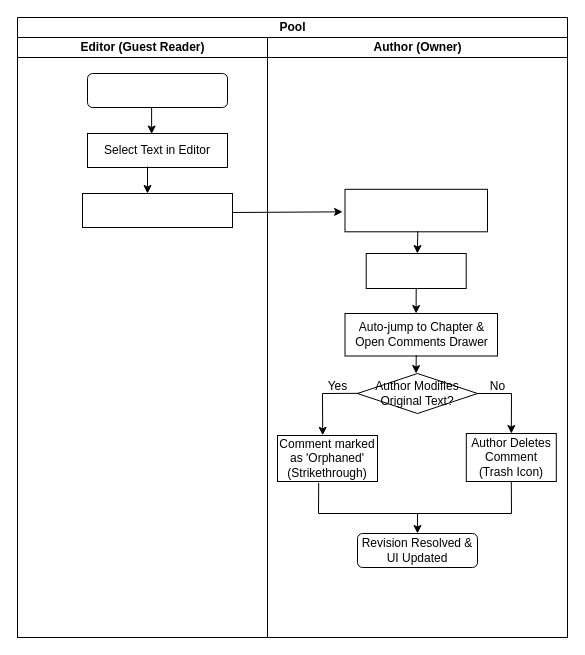
Image size: 585x655. Some labels were removed from this diagram. Here are the shapes that lost their labels. From the top down, the centre of each, then its label:
(x=157, y=90): Enter Share Link & Access Code
(x=157, y=210): Trigger Comment Popup & Input Feedback
(x=416, y=210): Dashboard: View 'Pending Revisions' Feed
(x=415, y=270): Click Target Revision Card
